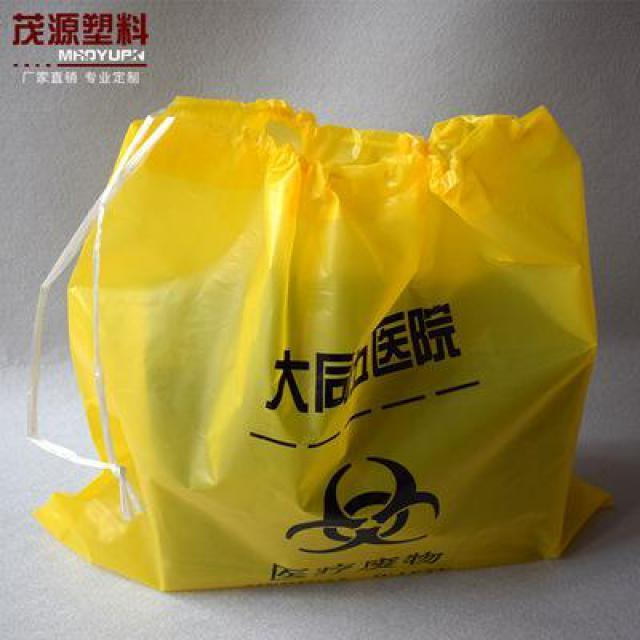waste: (55, 79, 599, 574)
